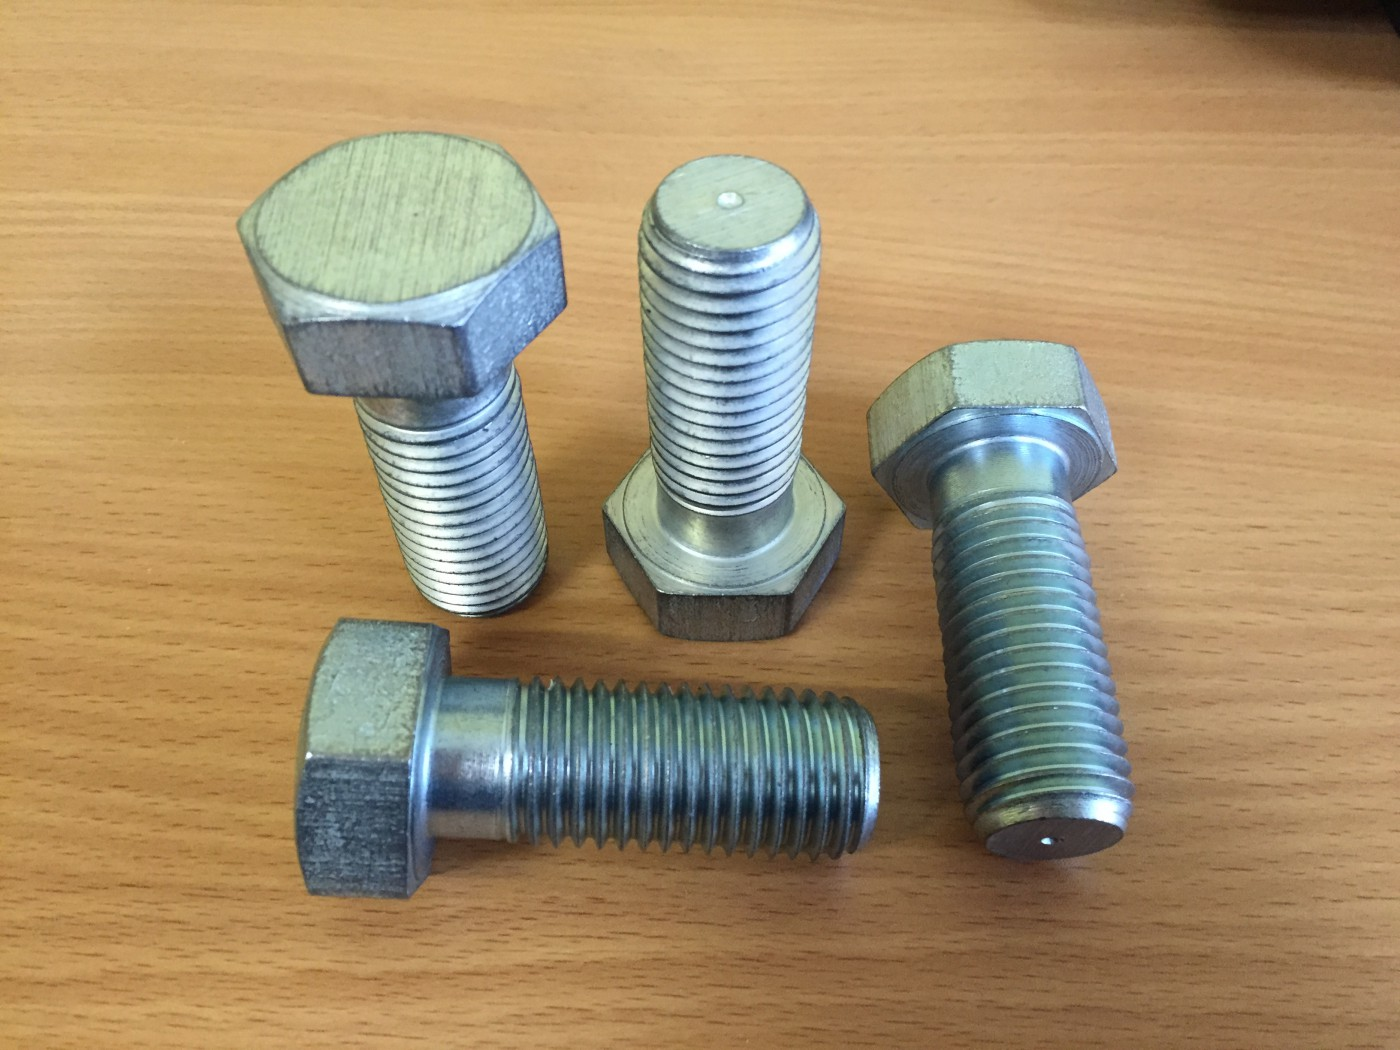screw: (297, 617, 884, 903), (237, 130, 568, 620), (863, 339, 1138, 863), (601, 153, 848, 644)
